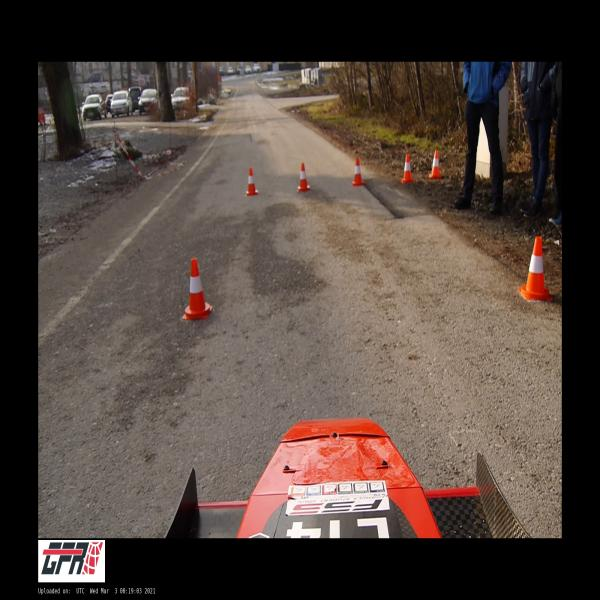orange_cone: (519, 237, 553, 300), (183, 258, 212, 319), (297, 164, 310, 192), (401, 154, 414, 182), (429, 150, 442, 178), (245, 168, 258, 195), (352, 157, 364, 186)
